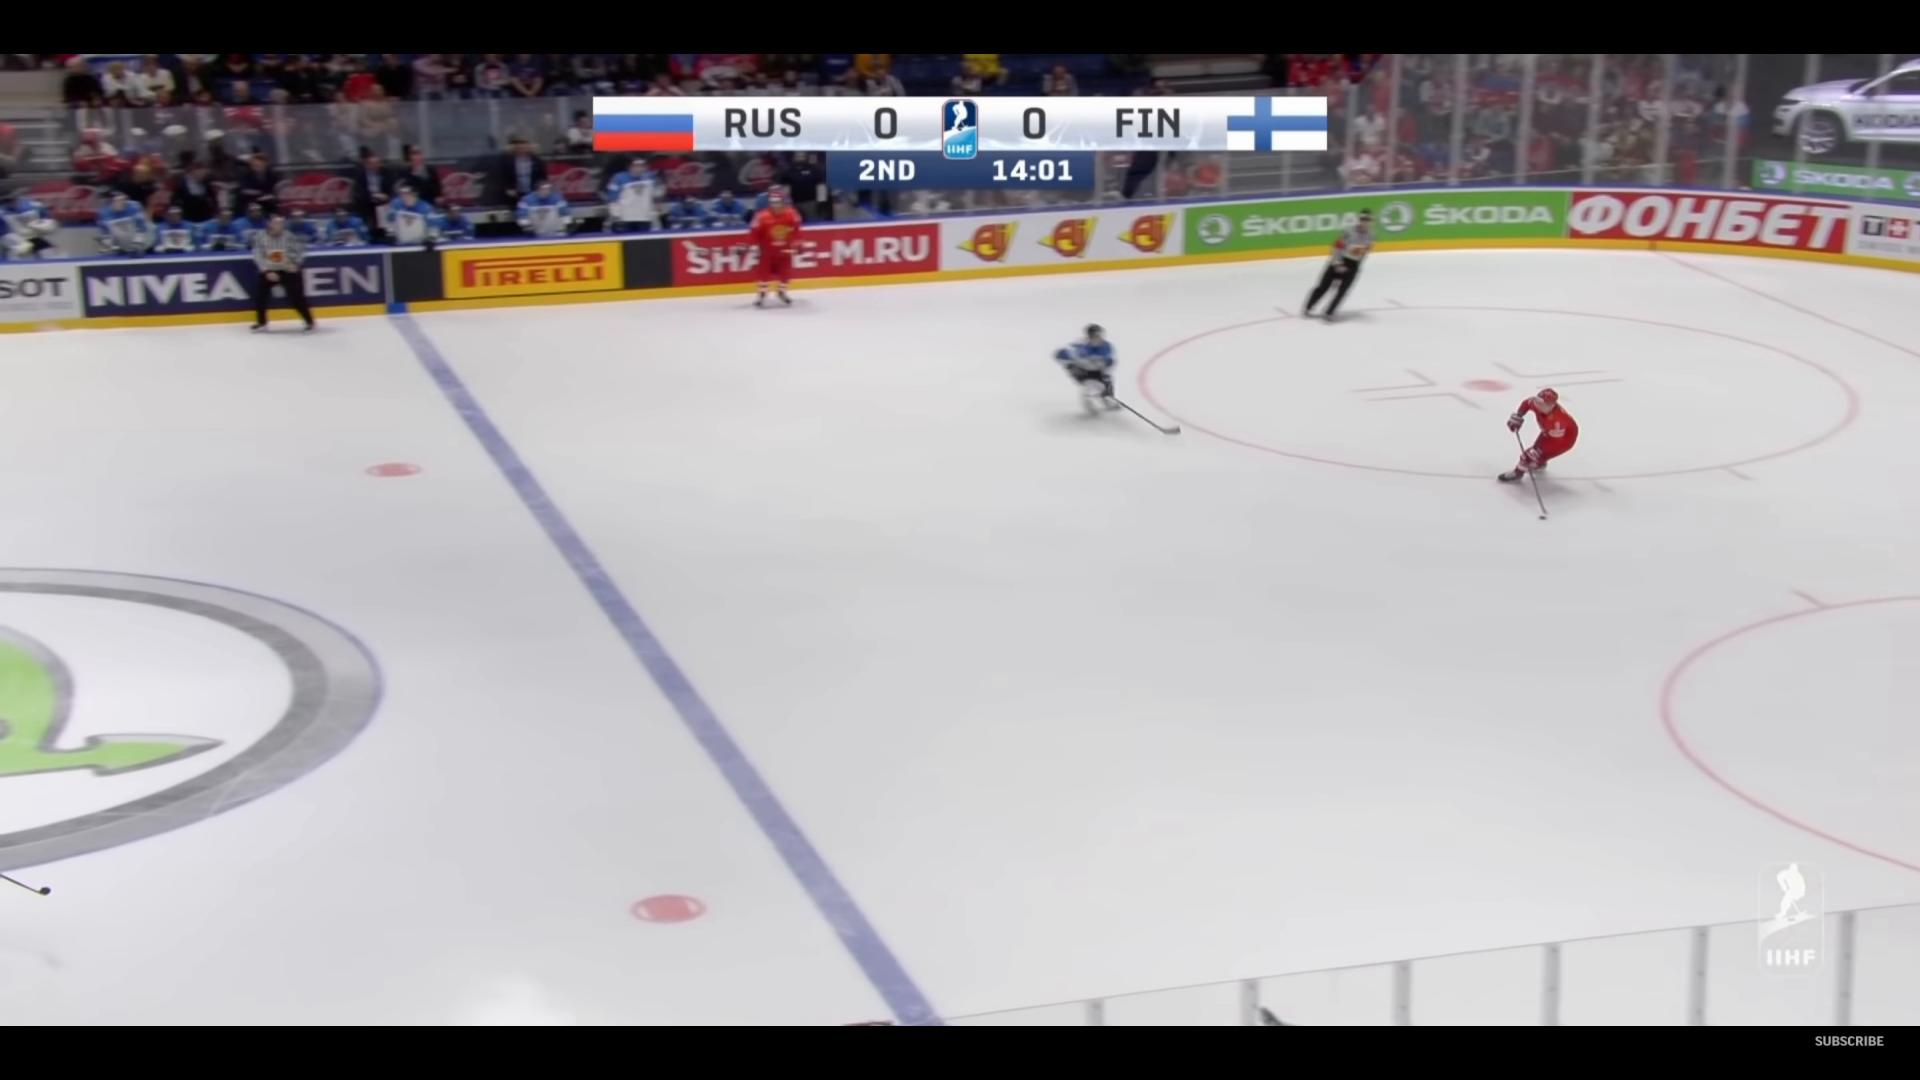puck: (1537, 514, 1546, 520)
